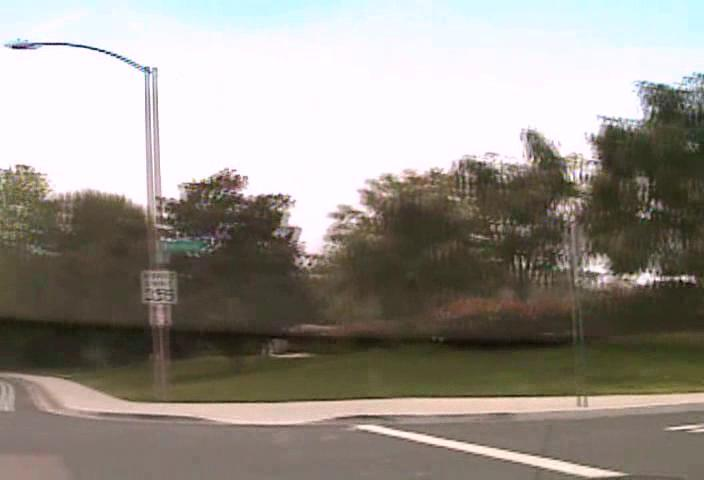speedLimit35: (142, 268, 175, 304)
